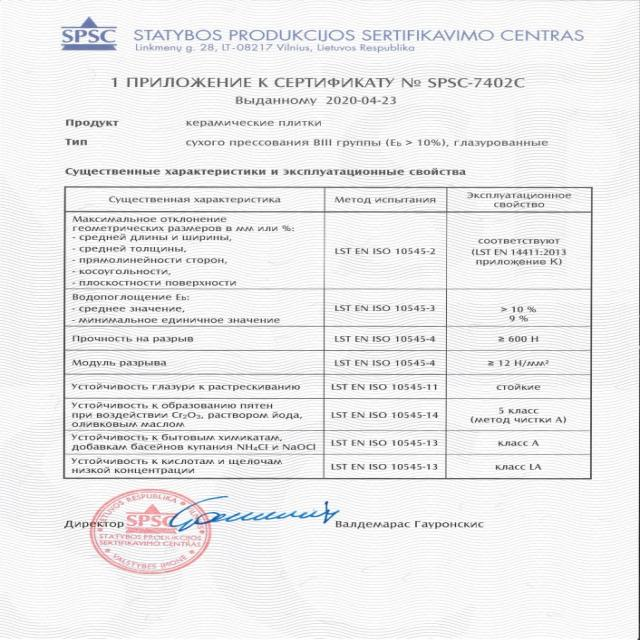stamps: (40, 487, 352, 582)
